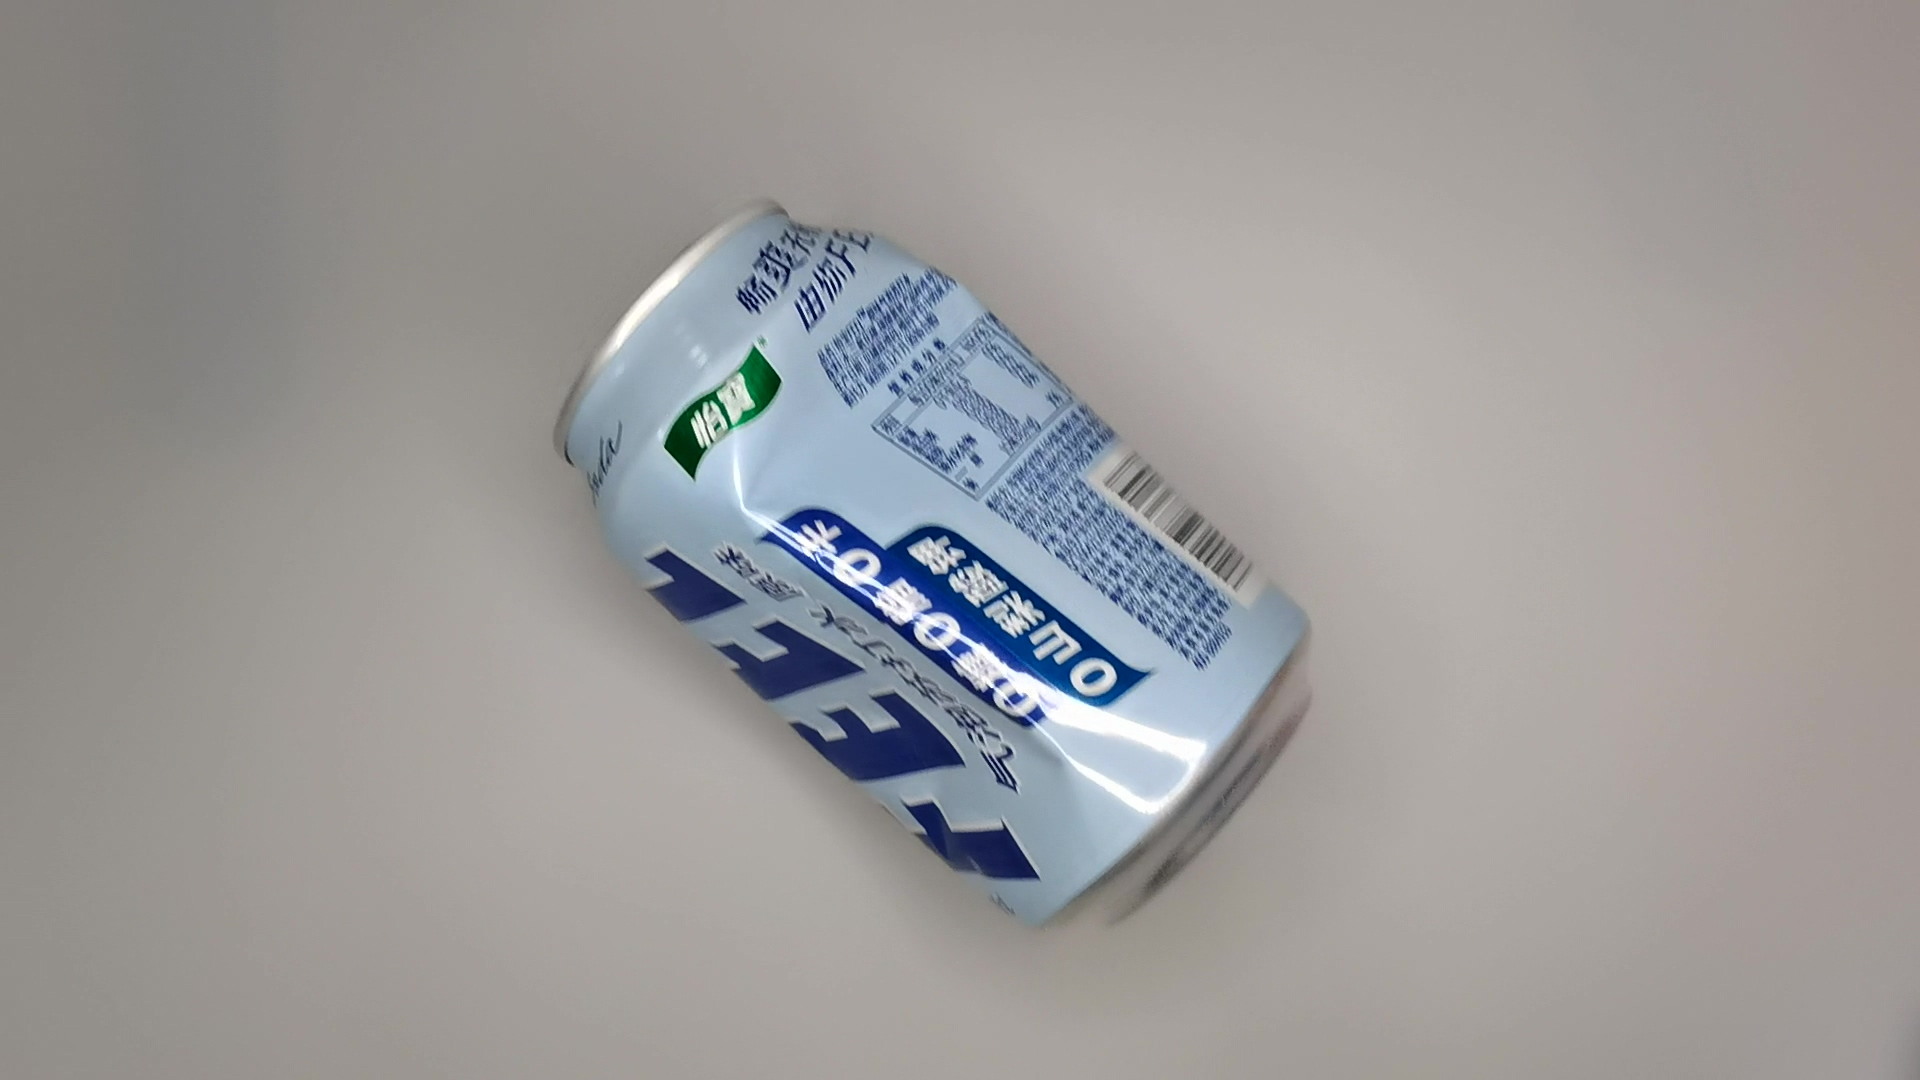can: (549, 196, 1337, 956)
